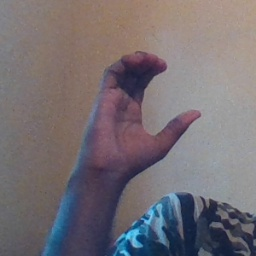C: (110, 47, 211, 165)
